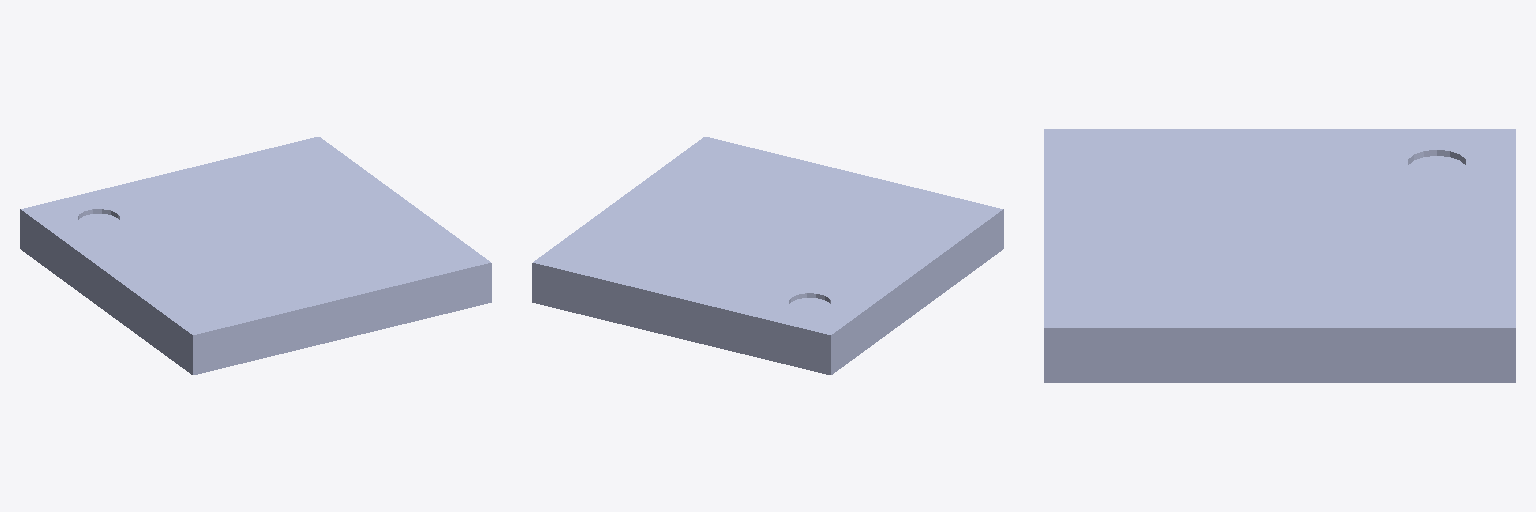
robot.urdf — chip:
<?xml version="1.0" encoding="utf-8"?>
<!-- CHIP URDF - Automatically generated and adapted for conveyorbelt_gazebo package -->
<robot name="chip">
  <link name="base_link_chip">
    <!-- Spin fix WITHOUT changing belt behaviour: the chip spun wildly on lift
         because its CAD-exported rotational inertia (~1e-6) is far too small for
         ODE once it is rigidly link-attached to the heavy SCARA tool link
         (ill-conditioned mass matrix -> rotational blow-up). Raising ONLY the
         inertia (~1e-4) damps that rotation. Mass is kept at the original 5.5 g
         so the conveyor friction dynamics are unchanged -> the chip still rides
         belt2 to the sonar instead of being flung across the cell. -->
    <inertial>
      <origin xyz="0 0 0.00225" rpy="0 0 0" />
      <mass value="0.0055" />
      <inertia
        ixx="1.0E-04"
        ixy="0.0"
        ixz="0.0"
        iyy="1.0E-04"
        iyz="0.0"
        izz="1.0E-04" />
    </inertial>
    <visual>
      <origin xyz="-2.9300 -4.3990 -6.4985" rpy="0 0 0" />
      <geometry>
        <mesh filename="package://conveyorbelt_gazebo/meshes/chip/base_link_chip.STL" scale="5.0 5.0 5.0" />
      </geometry>
      <material name="">
        <color rgba="0.792156862745098 0.819607843137255 0.933333333333333 1" />
      </material>
    </visual>
    <collision>
      <origin xyz="-2.9300 -4.3990 -6.4985" rpy="0 0 0" />
      <geometry>
        <mesh filename="package://conveyorbelt_gazebo/meshes/chip/base_link_chip.STL" scale="5.0 5.0 5.0" />
      </geometry>
      <surface>
        <contact>
          <collide_without_contact>false</collide_without_contact>
        </contact>
      </surface>
    </collision>
  </link>

  <gazebo reference="base_link_chip">
    <material>Gazebo/Grey</material>
    <mu1>100.0</mu1>
    <mu2>100.0</mu2>
    <selfCollide>false</selfCollide>
  </gazebo>

</robot>

--- Facts derived from the render (not from the file) ---
3 views of the same robot in one strip: view 1: azimuth 30°, elevation 25°; view 2: azimuth 150°, elevation 25°; view 3: azimuth 270°, elevation 25° (orthographic).
Model chip with 1 links and 0 joints (none), rooted at base_link_chip, posed all joints at 0.
Links seen in each view (by area): view 1: base_link_chip; view 2: base_link_chip; view 3: base_link_chip.
Boxes of the visible links, x1,y1,x2,y2 form: base_link_chip: (20, 137, 491, 374); base_link_chip: (532, 137, 1003, 374); base_link_chip: (1044, 129, 1515, 382).
Bounding box of the posed robot: 0.035 × 0.035 × 0.0045 m (x, y, z).
1 mesh visuals loaded from 1 distinct referenced files (1 binary STL).
